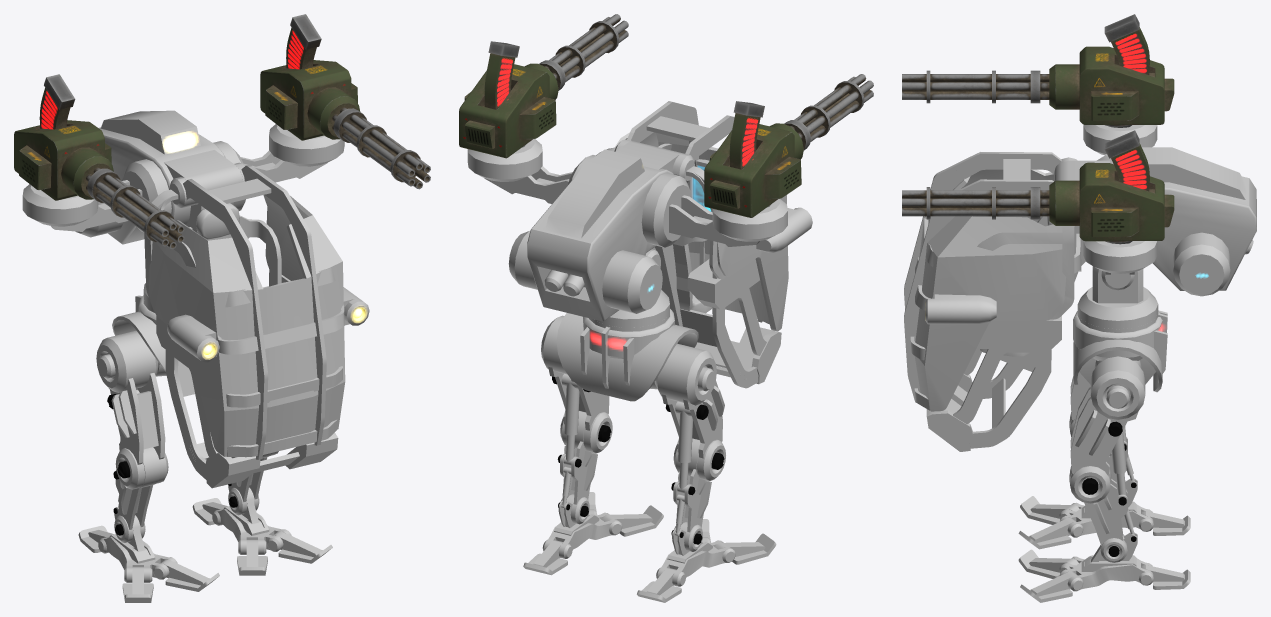
Rendered from SM_LightAssaultMech_SplitExploded.fbx.
3 views of the same model, side by side, from view 1: azimuth 30°, elevation 25°; view 2: azimuth 150°, elevation 25°; view 3: azimuth 270°, elevation 25° (orthographic). The views are drawn at different scales.
Parts seen in each view (by area): view 1: SM_LightAssaultMech_CockpitDoor_A, SM_LightAssaultMech_Cockpit, LightAssaultMech_CockpitDoor_B, SM_Minigun_Left, SM_Minigun_Right, SM_LightAssaultMech_ThighRight, SM_LightAssaultMech_FootRight, SM_LightAssaultMech_FootLeft, SM_LightAssaultMech_TurretRight, SM_LightAssaultMech_TurretLeft, SM_LightAssaultMech_CalfRight, SM_LightAssaultMech_Pelvis (+1 smaller); view 2: SM_LightAssaultMech_Cockpit, SM_Minigun_Right, SM_Minigun_Left, SM_LightAssaultMech_Pelvis, SM_LightAssaultMech_TurretRight, SM_LightAssaultMech_CockpitDoor_A, SM_LightAssaultMech_ThighRight, LightAssaultMech_CockpitDoor_B, SM_LightAssaultMech_FootLeft, SM_LightAssaultMech_FootRight, SM_LightAssaultMech_TurretLeft, SM_LightAssaultMech_ThighLeft (+5 smaller); view 3: SM_LightAssaultMech_Cockpit, SM_LightAssaultMech_CockpitDoor_A, SM_Minigun_Left, SM_Minigun_Right, LightAssaultMech_CockpitDoor_B, SM_LightAssaultMech_ThighLeft, SM_LightAssaultMech_FootLeft, SM_LightAssaultMech_Pelvis, SM_LightAssaultMech_FootRight, SM_LightAssaultMech_Spine, SM_LightAssaultMech_CalfLeft, SM_LightAssaultMech_TurretLeft (+3 smaller).
Boxes of the visible parts, <box> form: SM_LightAssaultMech_CockpitDoor_A: <box>149,164,362,456</box>; SM_LightAssaultMech_Cockpit: <box>75,110,338,488</box>; LightAssaultMech_CockpitDoor_B: <box>144,162,369,459</box>; SM_Minigun_Left: <box>260,14,430,189</box>; SM_Minigun_Right: <box>14,74,184,249</box>; SM_LightAssaultMech_ThighRight: <box>96,330,168,489</box>; SM_LightAssaultMech_FootRight: <box>78,507,219,602</box>; SM_LightAssaultMech_FootLeft: <box>192,483,332,575</box>; SM_LightAssaultMech_TurretRight: <box>22,159,171,232</box>; SM_LightAssaultMech_TurretLeft: <box>213,124,344,210</box>; SM_LightAssaultMech_CalfRight: <box>113,447,160,542</box>; SM_LightAssaultMech_Pelvis: <box>112,295,166,376</box>; SM_LightAssaultMech_Cockpit: <box>508,141,781,388</box>; SM_Minigun_Right: <box>704,74,873,217</box>; SM_Minigun_Left: <box>459,14,628,158</box>; SM_LightAssaultMech_Pelvis: <box>556,309,698,401</box>; SM_LightAssaultMech_TurretRight: <box>641,173,787,247</box>; SM_LightAssaultMech_CockpitDoor_A: <box>614,101,800,331</box>; SM_LightAssaultMech_ThighRight: <box>655,343,725,480</box>; LightAssaultMech_CockpitDoor_B: <box>596,102,812,330</box>; SM_LightAssaultMech_FootLeft: <box>523,492,663,575</box>; SM_LightAssaultMech_FootRight: <box>637,519,776,602</box>; SM_LightAssaultMech_TurretLeft: <box>467,139,595,203</box>; SM_LightAssaultMech_ThighLeft: <box>541,315,612,453</box>; SM_LightAssaultMech_Cockpit: <box>926,147,1256,451</box>; SM_LightAssaultMech_CockpitDoor_A: <box>914,152,1074,411</box>; SM_Minigun_Left: <box>902,130,1174,244</box>; SM_Minigun_Right: <box>902,14,1174,127</box>; LightAssaultMech_CockpitDoor_B: <box>904,153,1077,410</box>; SM_LightAssaultMech_ThighLeft: <box>1070,356,1145,503</box>; SM_LightAssaultMech_FootLeft: <box>1018,532,1190,602</box>; SM_LightAssaultMech_Pelvis: <box>1073,310,1167,392</box>; SM_LightAssaultMech_FootRight: <box>1018,479,1190,549</box>; SM_LightAssaultMech_Spine: <box>1077,266,1158,329</box>; SM_LightAssaultMech_CalfLeft: <box>1069,467,1127,562</box>; SM_LightAssaultMech_TurretLeft: <box>1083,241,1157,274</box>.
Bounding box in the file's own units: 242 × 359 × 240.
